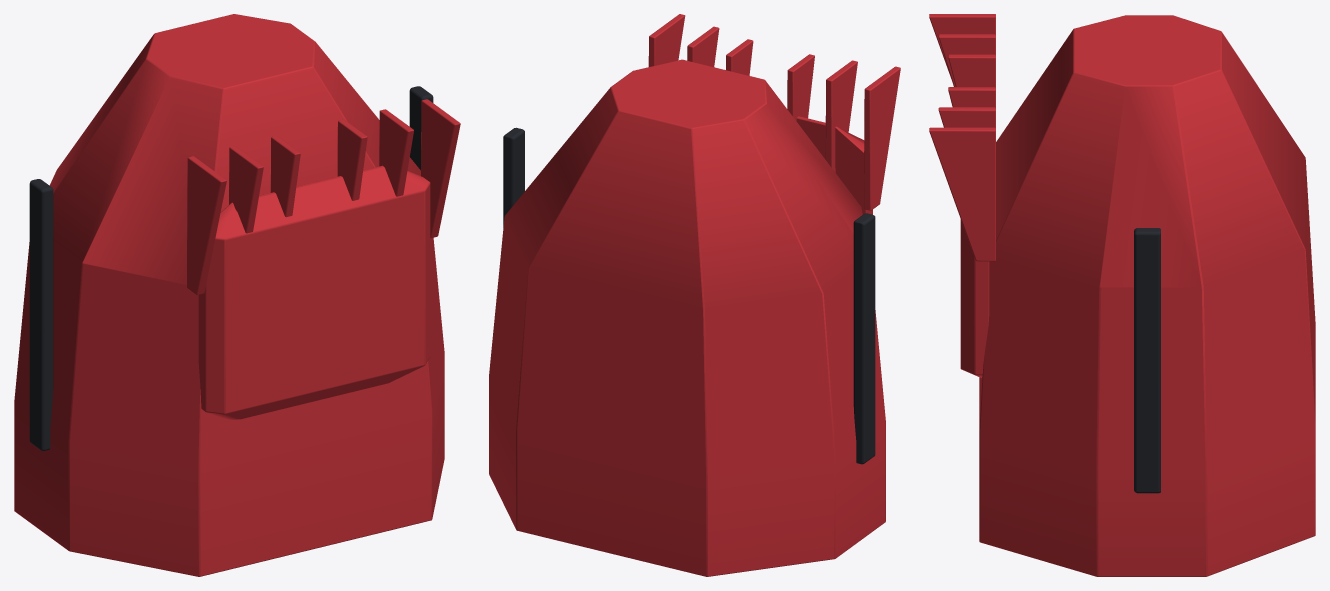
Rendered from QuadBodyBack_Set05_Afterburn.fbx.
3 renders of one model, left to right at view 1: azimuth 30°, elevation 25°; view 2: azimuth 150°, elevation 25°; view 3: azimuth 270°, elevation 25°, orthographic. The views are drawn at different scales.
Visible parts, largest first — view 1: QuadBodyBack_Set05_Afterburn; view 2: QuadBodyBack_Set05_Afterburn; view 3: QuadBodyBack_Set05_Afterburn.
Part boxes in pixels (left/top/right/bottom): QuadBodyBack_Set05_Afterburn: left=14, top=14, right=460, bottom=576; QuadBodyBack_Set05_Afterburn: left=489, top=14, right=900, bottom=576; QuadBodyBack_Set05_Afterburn: left=929, top=14, right=1315, bottom=576.
Bounding box in the file's own units: 0.94 × 1 × 0.8043.
